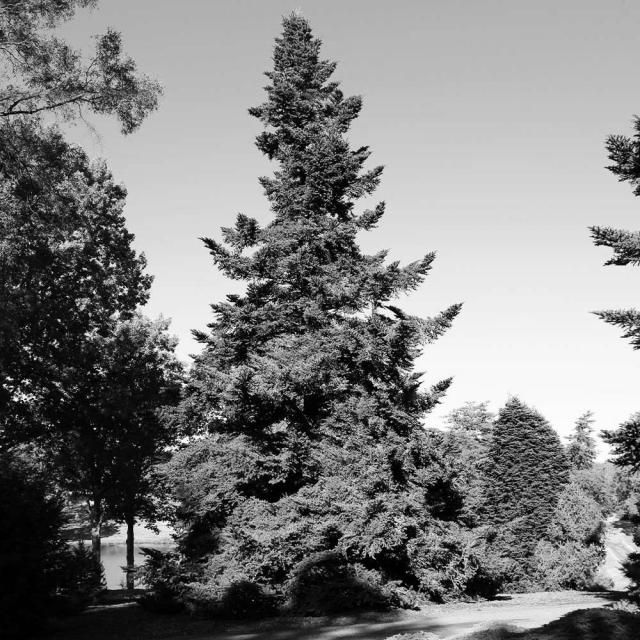Pseudotsuga menziesii: (150, 12, 498, 604)
